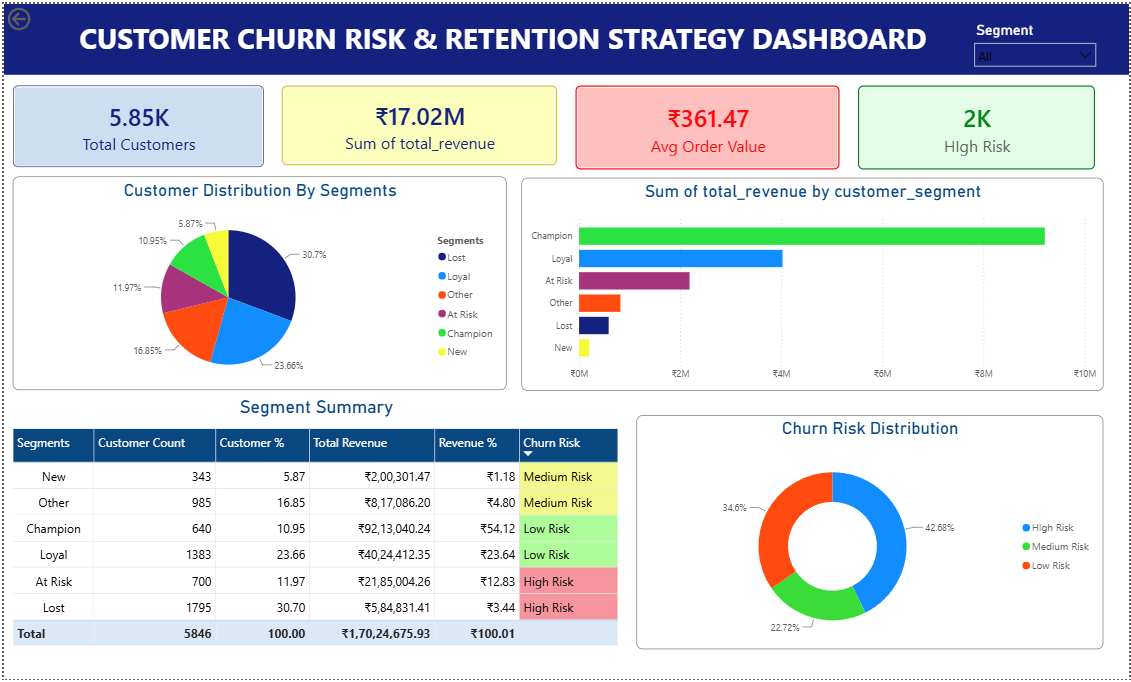

The page's visual inventory and layout, read from the dashboard file:
{"tool":"powerbi","page":{"name":"Page 1","canvas":[1500,900],"ordinal":0},"visuals":[{"type":"textbox","box":[0,60.4,1280.3,12.3],"z":0},{"type":"textbox","box":[0,0,1500,94],"z":1000},{"type":"slicer","fields":{"Values":["public final_view.customer_segment"]},"box":[1284,4,182.4,89.8],"z":2000},{"type":"cardVisual","fields":{"Data":["Sum(public final_view.customer_count)"]},"box":[0,96.7,358.3,133.3],"z":3000},{"type":"cardVisual","fields":{"Data":["Sum(public final_view.total_revenue)"]},"box":[358.3,96.7,391.7,130],"z":4000},{"type":"cardVisual","fields":{"Data":["public clean_online_retail.Avg Order Value"]},"box":[750,96.7,376.7,136.7],"z":5000},{"type":"cardVisual","fields":{"Data":["public clean_online_retail.HIgh Risk"]},"box":[1126.7,96.7,340,136.7],"z":6000},{"type":"pieChart","title":"Customer Distribution By Segments","fields":{"Category":["public final_view.customer_segment"],"Y":["Sum(public final_view.customer_count)"]},"box":[11.7,230,658.3,285],"z":7000},{"type":"clusteredBarChart","fields":{"Y":["Sum(public final_view.total_revenue)"],"Category":["public final_view.customer_segment"]},"box":[690,232,776,284],"z":8000},{"type":"donutChart","title":"Churn Risk Distribution","fields":{"Y":["public clean_online_retail.HIgh Risk","public clean_online_retail.Medium Risk","public clean_online_retail.Low Risk"]},"box":[844,548,622,312],"z":9000},{"type":"tableEx","title":"Segment Summary","fields":{"Values":["public final_view.customer_segment","Sum(public final_view.customer_count)","Sum(public final_view.customer_percentage)","Sum(public final_view.total_revenue)","Sum(public final_view.revenue_percentage)","public final_view.Churn Risk"]},"box":[12,524,810,336],"z":10000},{"type":"actionButton","box":[0,0,100,40],"z":11000}]}

Visuals, with their boxes in screenshot pixels (x1, y1, x2, y2), scaled from the page's 1500x900 canvas onto the 1131x682 screenshot:
textbox: 0 46 965 55
textbox: 0 0 1130 71
slicer - public final_view.customer_segment: 968 3 1106 71
cardVisual - Sum(public final_view.customer_count): 0 73 270 174
cardVisual - Sum(public final_view.total_revenue): 270 73 566 172
cardVisual - public clean_online_retail.Avg Order Value: 566 73 850 177
cardVisual - public clean_online_retail.HIgh Risk: 850 73 1106 177
"Customer Distribution By Segments" pieChart: 9 174 505 390
clusteredBarChart - Sum(public final_view.total_revenue) x public final_view.customer_segment: 520 176 1105 391
"Churn Risk Distribution" donutChart: 636 415 1105 652
"Segment Summary" tableEx: 9 397 620 652
actionButton: 0 0 75 30
